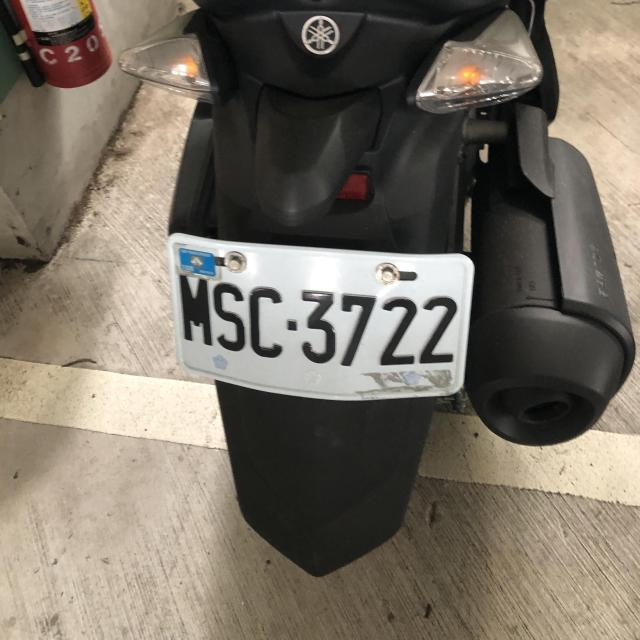W: (157, 230, 478, 408)
